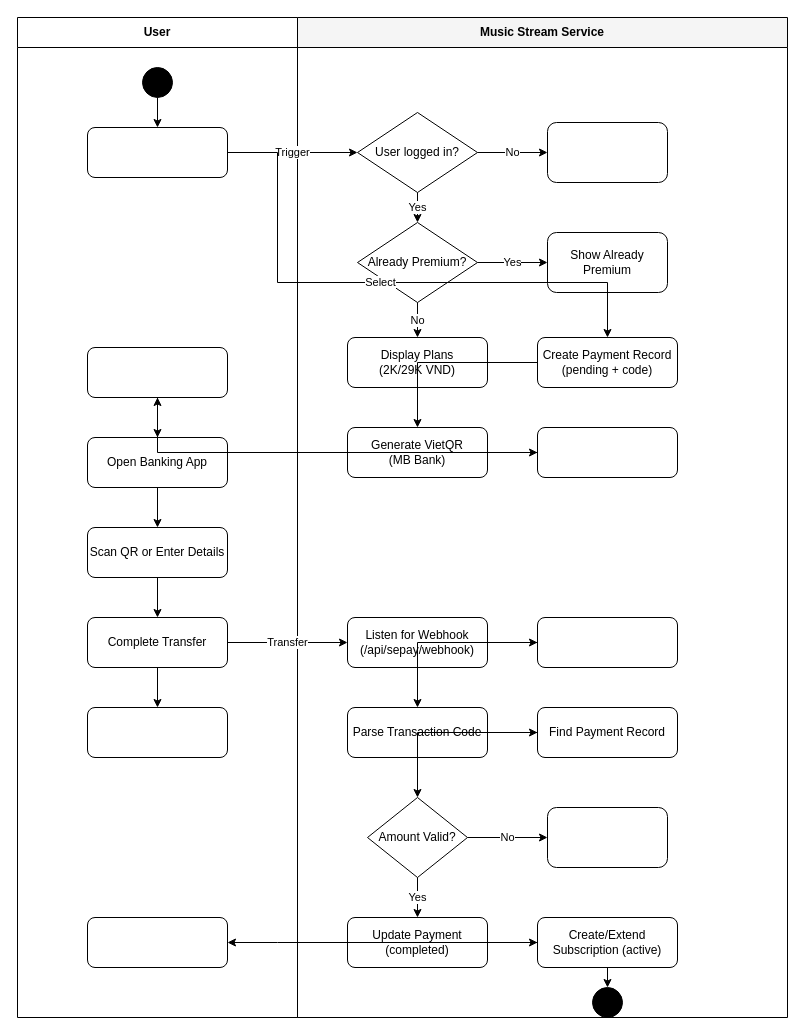
Image size: 805x1035. Some labels were removed from this diagram. Each missing label, with the centre of its shape:
"Display QR + Info" goes at pixel 607 452.
"Mark Failed" goes at pixel 607 837.
"Premium Activated!" goes at pixel 157 942.
"Receive Bank Webhook" goes at pixel 607 642.
"Select Premium Plan" goes at pixel 157 152.
"Show Auth Modal" goes at pixel 607 152.
"View QR & Bank Info" goes at pixel 157 372.
"Wait for Confirmation" goes at pixel 157 732.
